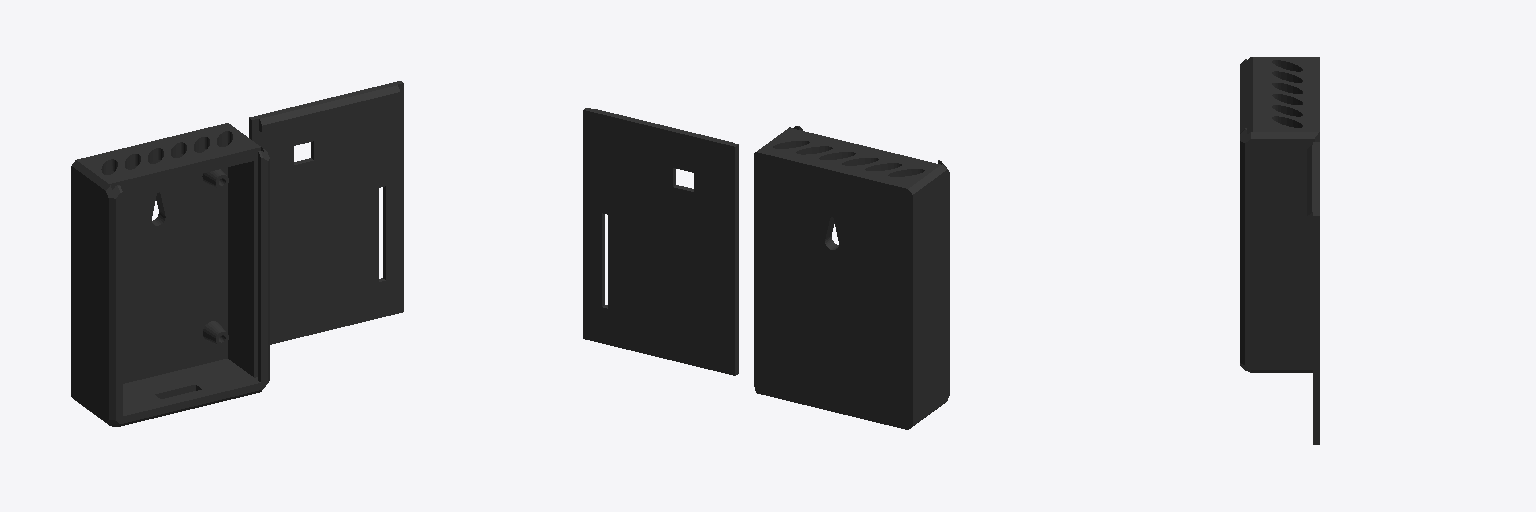
File: esp32_case.obj
The picture shows the model from 3 angles: view 1: azimuth 30°, elevation 25°; view 2: azimuth 150°, elevation 25°; view 3: azimuth 270°, elevation 25°; orthographic projection.
Visible parts, largest first — view 1: Body1, Body2; view 2: Body1, Body2; view 3: Body1, Body2.
Boxes of the visible parts, <box> form: Body1: <box>71,123,269,426</box>; Body2: <box>249,81,403,344</box>; Body1: <box>754,126,949,429</box>; Body2: <box>583,108,738,375</box>; Body1: <box>1240,57,1319,372</box>; Body2: <box>1307,142,1319,444</box>.
Bounding box in the file's own units: 14.29 × 10 × 3.